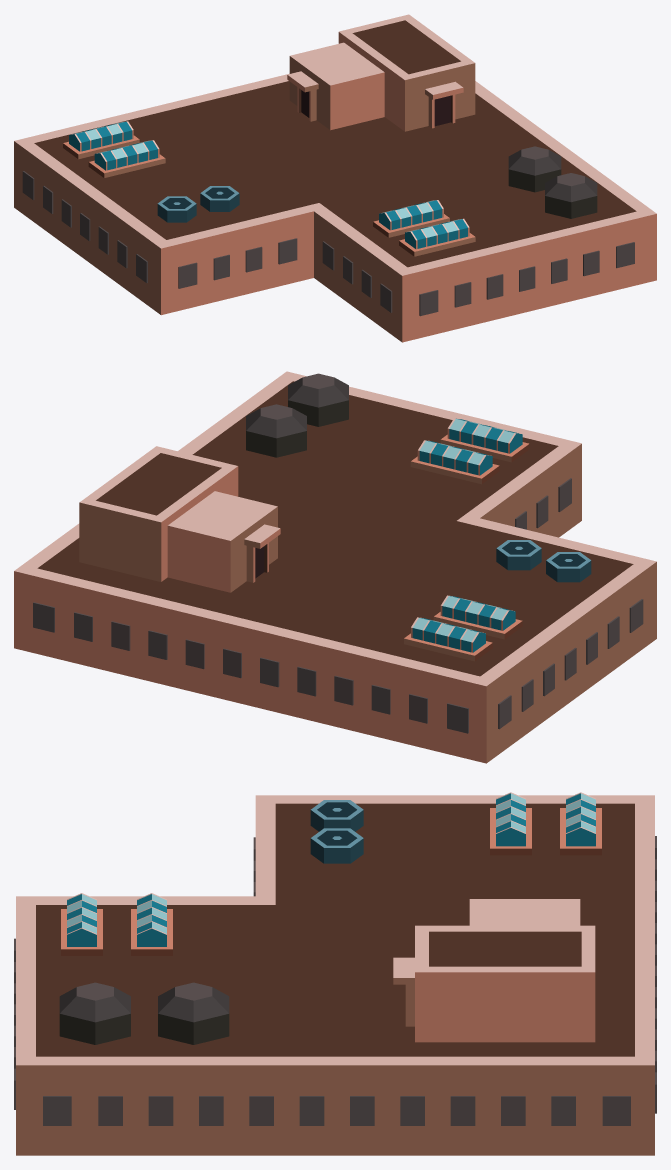
File: TB_CITY_Skysc_P_Top_Brown.FBX
3 renders of one model, top to bottom at view 1: azimuth 30°, elevation 25°; view 2: azimuth 150°, elevation 25°; view 3: azimuth 270°, elevation 25°, orthographic. The views are drawn at different scales.
Parts seen in each view (by area): view 1: TB_CITY_Skysc_P_Top_Brown; view 2: TB_CITY_Skysc_P_Top_Brown; view 3: TB_CITY_Skysc_P_Top_Brown.
Part boxes in pixels (x1,y1,x2,y2): TB_CITY_Skysc_P_Top_Brown: (14, 14, 656, 342); TB_CITY_Skysc_P_Top_Brown: (14, 371, 656, 763); TB_CITY_Skysc_P_Top_Brown: (14, 792, 656, 1155).
Bounding box in the file's own units: 32.2 × 8.87 × 32.2.
